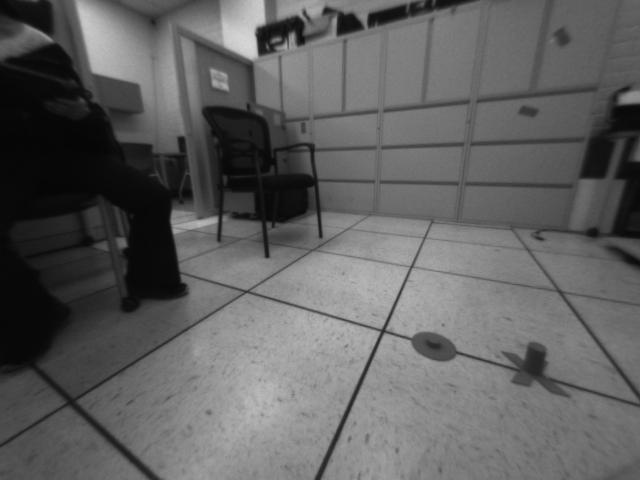X: (499, 340, 577, 400)
